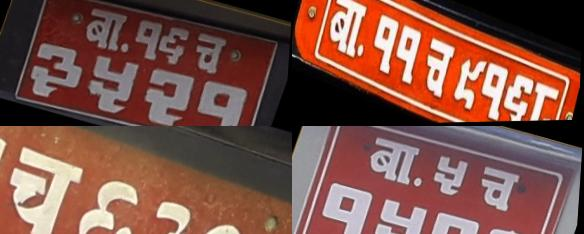0: (174, 210, 263, 234)
1: (308, 174, 386, 234), (188, 75, 262, 126), (390, 23, 431, 90), (415, 202, 495, 234), (475, 58, 514, 123), (366, 11, 404, 77), (124, 16, 168, 69)
2: (131, 64, 201, 126)
3: (21, 36, 96, 110), (116, 192, 212, 234)
5: (77, 51, 149, 125), (364, 190, 438, 234), (423, 149, 479, 206)
6: (55, 164, 163, 234), (152, 20, 199, 72), (500, 67, 539, 122)
8: (525, 77, 564, 122)
9: (448, 49, 490, 116)
ba: (359, 133, 428, 194), (75, 2, 134, 57), (321, 0, 371, 61)
cha: (0, 131, 93, 234), (466, 160, 531, 224), (184, 28, 235, 81), (419, 34, 458, 102)
